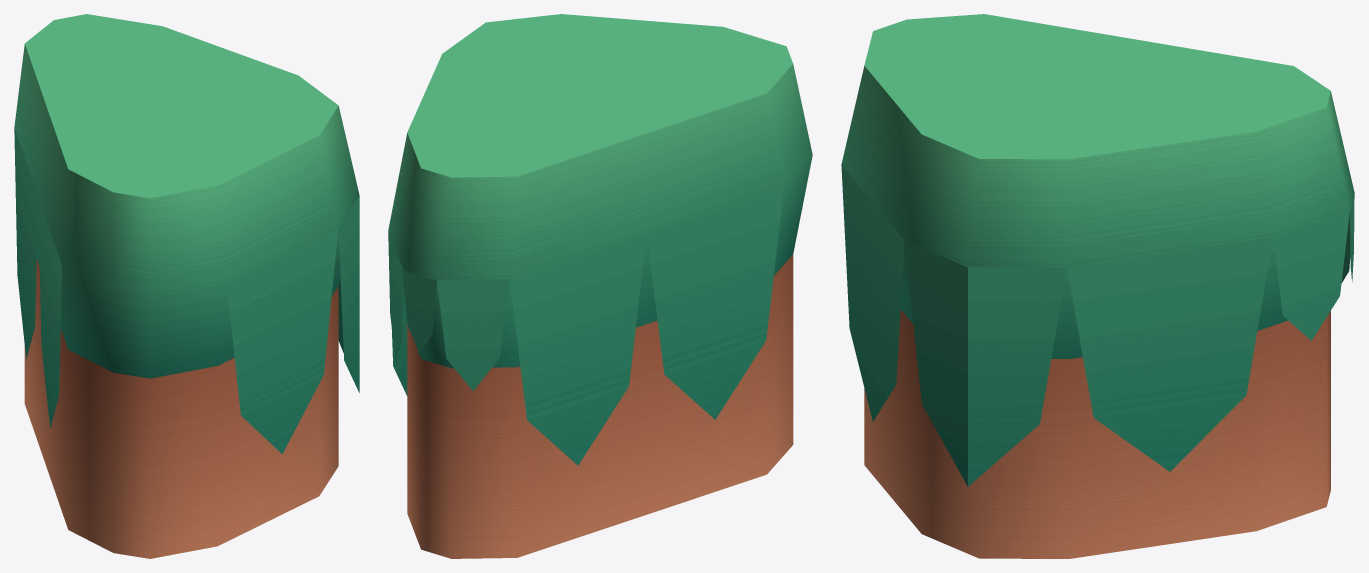
Rendered from block-grass-corner-overhang-low.005_lev2.glb.
3 views of the same model, side by side, from view 1: azimuth 30°, elevation 25°; view 2: azimuth 150°, elevation 25°; view 3: azimuth 270°, elevation 25° (orthographic). The views are drawn at different scales.
Visible parts, largest first — view 1: block-grass-corner-overhang-low.005_lev2; view 2: block-grass-corner-overhang-low.005_lev2; view 3: block-grass-corner-overhang-low.005_lev2.
Part boxes in pixels (x1,y1,x2,y2): block-grass-corner-overhang-low.005_lev2: (14, 14, 359, 558); block-grass-corner-overhang-low.005_lev2: (388, 14, 812, 558); block-grass-corner-overhang-low.005_lev2: (841, 14, 1354, 558).
Size of the model in its own units: 2.45 by 2.86 by 3.32.
1 material, 1 textured.
